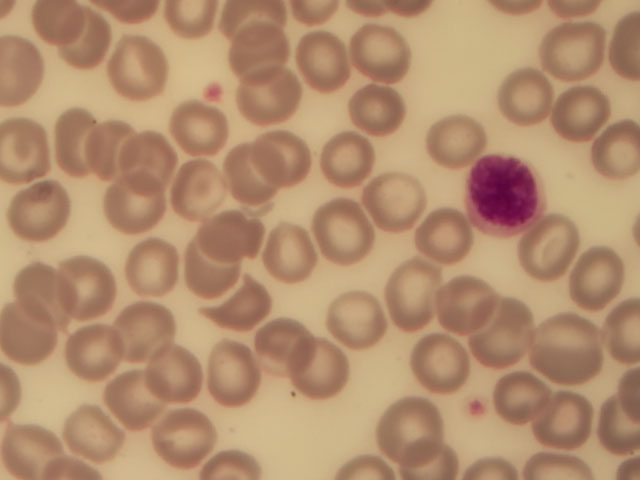Platelets: (465, 395, 488, 421), (205, 81, 226, 104)
RBC: (104, 37, 169, 100), (40, 104, 105, 167), (68, 116, 133, 179), (118, 129, 183, 192), (92, 174, 157, 237), (14, 177, 79, 240), (56, 247, 121, 310), (27, 262, 92, 325), (4, 305, 69, 368), (75, 319, 140, 382), (105, 300, 170, 363), (153, 348, 218, 411), (98, 367, 163, 430), (59, 401, 124, 464), (5, 417, 70, 480), (149, 405, 214, 468), (202, 336, 267, 399), (251, 313, 316, 376), (283, 340, 348, 403), (204, 273, 269, 336), (178, 243, 243, 306), (206, 205, 271, 268), (164, 156, 229, 219), (215, 141, 280, 204), (246, 120, 311, 183), (241, 74, 306, 137), (231, 18, 296, 81), (299, 30, 364, 93), (342, 19, 407, 82), (340, 91, 405, 154), (318, 129, 383, 192), (380, 170, 445, 233), (317, 197, 382, 260), (256, 224, 321, 287), (409, 197, 474, 260), (376, 255, 441, 318), (318, 282, 383, 345), (428, 264, 493, 327), (408, 327, 473, 390), (379, 396, 444, 459), (470, 302, 535, 365), (533, 316, 598, 379), (575, 240, 640, 303), (518, 214, 583, 277), (575, 117, 640, 180), (556, 85, 621, 148), (483, 61, 548, 124), (421, 107, 486, 170), (538, 23, 603, 86), (536, 386, 601, 449), (480, 356, 545, 419), (49, 9, 114, 72), (1, 115, 65, 178)
WBC: (463, 152, 548, 237)
